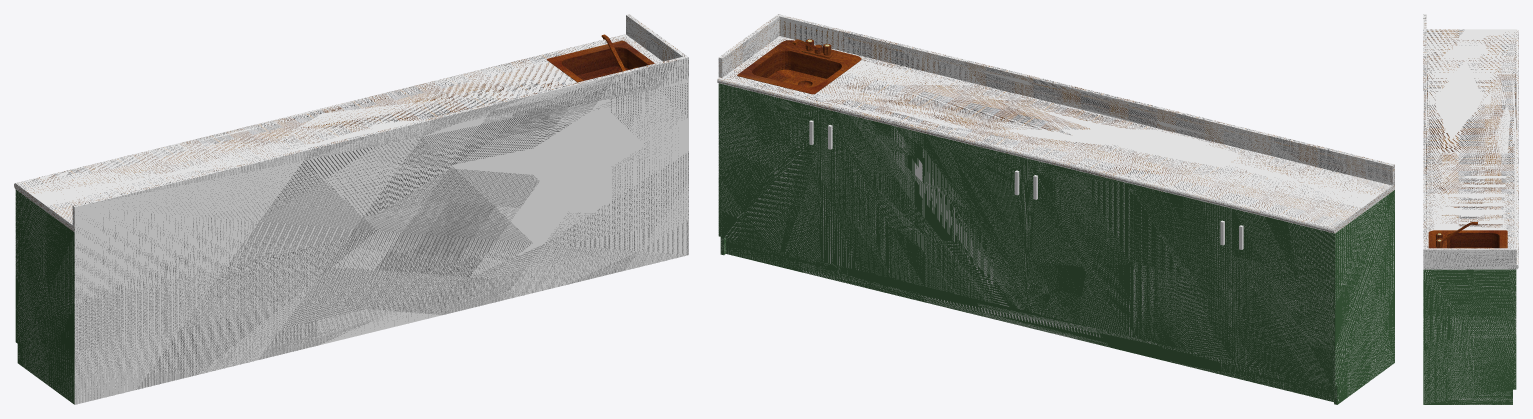
3 views of the same model, side by side, from view 1: azimuth 30°, elevation 25°; view 2: azimuth 150°, elevation 25°; view 3: azimuth 270°, elevation 25° (orthographic). The views are drawn at different scales.
Visible parts, largest first — view 1: mesh14_mesh14-geometry, mesh12_mesh12-geometry; view 2: mesh14_mesh14-geometry, mesh12_mesh12-geometry; view 3: mesh14_mesh14-geometry, mesh12_mesh12-geometry, mesh11_mesh11-geometry.
Part boxes in pixels (x1,y1,x2,y2): mesh14_mesh14-geometry: [14, 14, 688, 404]; mesh12_mesh12-geometry: [547, 40, 654, 82]; mesh14_mesh14-geometry: [717, 14, 1394, 404]; mesh12_mesh12-geometry: [737, 40, 861, 94]; mesh14_mesh14-geometry: [1423, 14, 1518, 404]; mesh12_mesh12-geometry: [1428, 230, 1507, 248]; mesh11_mesh11-geometry: [1437, 222, 1477, 241].
Size of the model in its own units: 0.9394 by 0.3028 by 0.1608.
